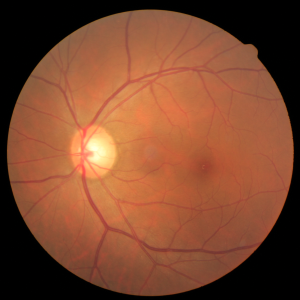glaucoma: (36, 107, 246, 219)
